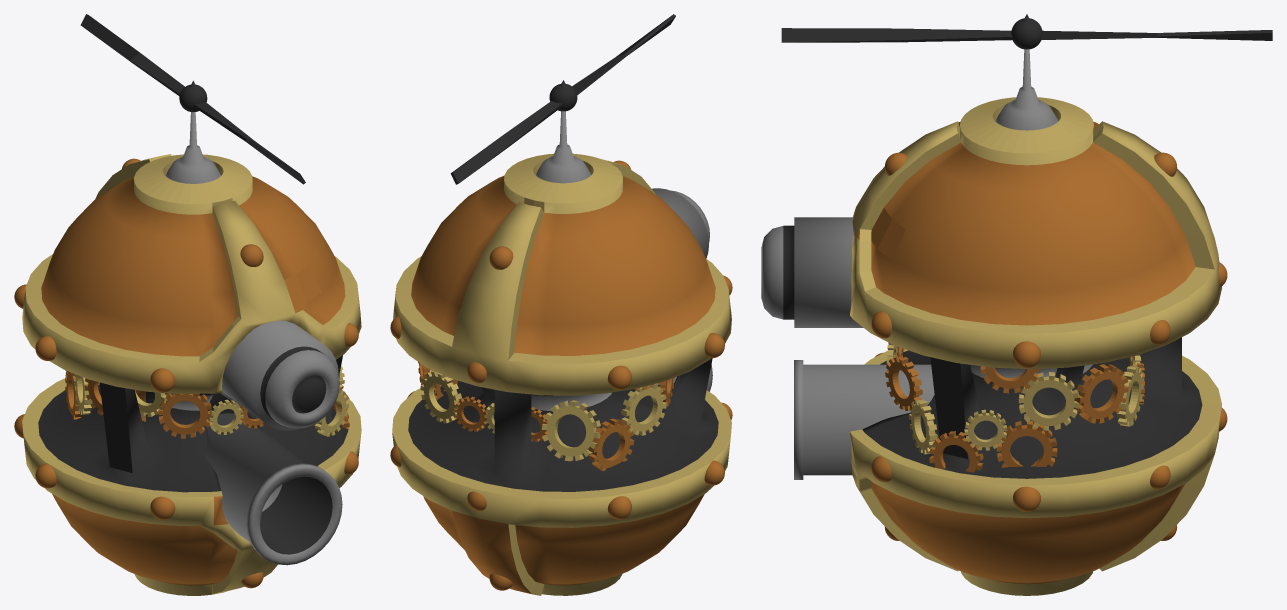
File: sentry.fbx
3 views of the same model, side by side, from view 1: azimuth 30°, elevation 25°; view 2: azimuth 150°, elevation 25°; view 3: azimuth 270°, elevation 25° (orthographic). The views are drawn at different scales.
Visible parts, largest first — view 1: Sphere, Sphere.001; view 2: Sphere, Sphere.001; view 3: Sphere, Sphere.001.
Boxes of the visible parts, left/top/right/bottom form: Sphere: left=14, top=112, right=361, bottom=595; Sphere.001: left=80, top=14, right=305, bottom=184; Sphere: left=390, top=111, right=732, bottom=595; Sphere.001: left=450, top=14, right=675, bottom=184; Sphere: left=761, top=49, right=1227, bottom=595; Sphere.001: left=781, top=14, right=1272, bottom=49.
Bounding box in the file's own units: 233 × 362 × 292.
